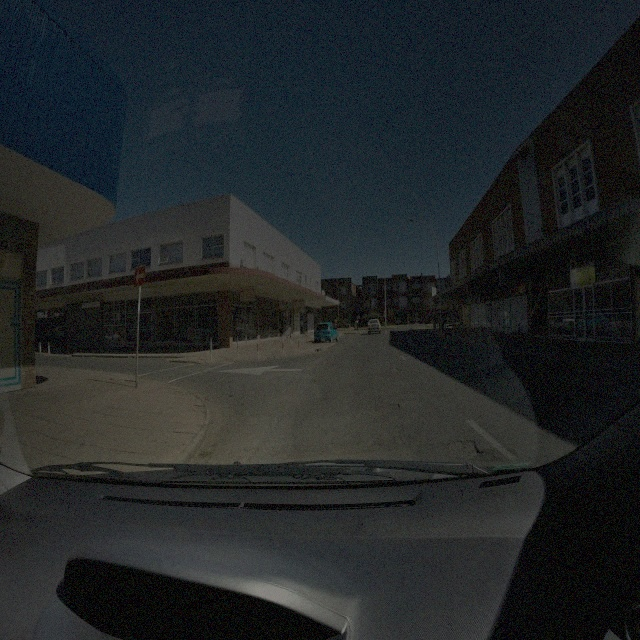pothole: (446, 438, 482, 464), (369, 401, 401, 416), (389, 367, 401, 376)
